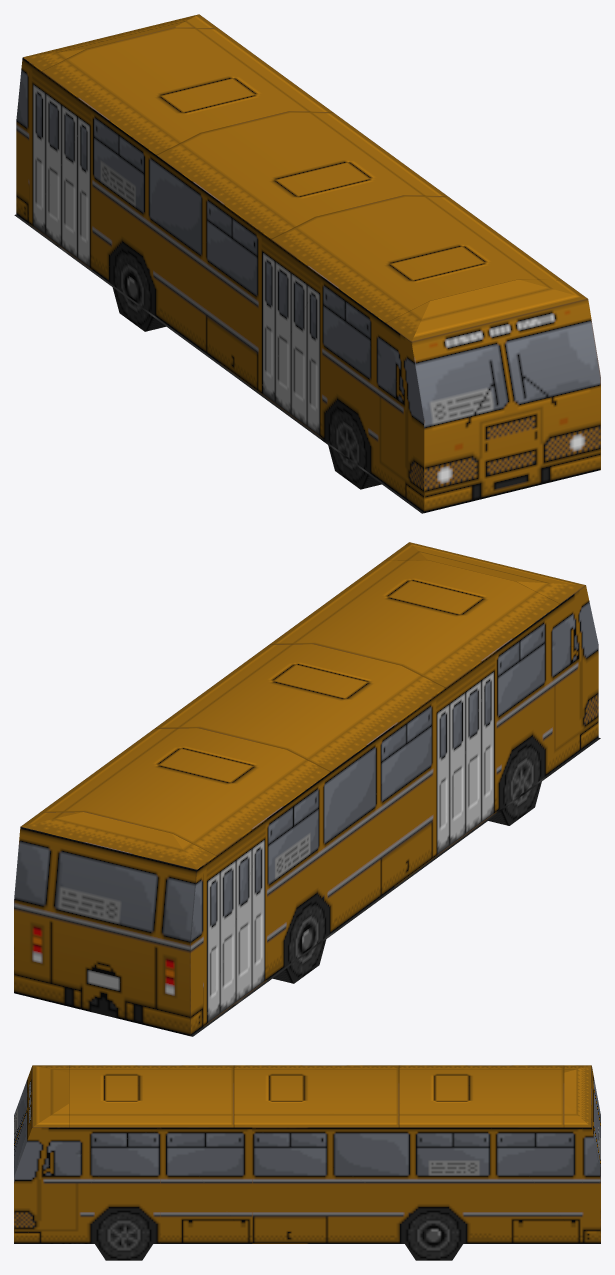
Rendered from bus.obj.
3 renders of one model, top to bottom at view 1: azimuth 30°, elevation 25°; view 2: azimuth 150°, elevation 25°; view 3: azimuth 270°, elevation 25°, orthographic. The views are drawn at different scales.
Visible parts, largest first — view 1: Regroup01; view 2: Regroup01; view 3: Regroup01.
Part boxes in pixels (x1,y1,x2,y2): Regroup01: (14,14,600,513); Regroup01: (14,542,600,1036); Regroup01: (14,1065,600,1260).
Bounding box in the file's own units: 8.1 × 8.5 × 32.
Materials: 1 (1 with a texture image).
